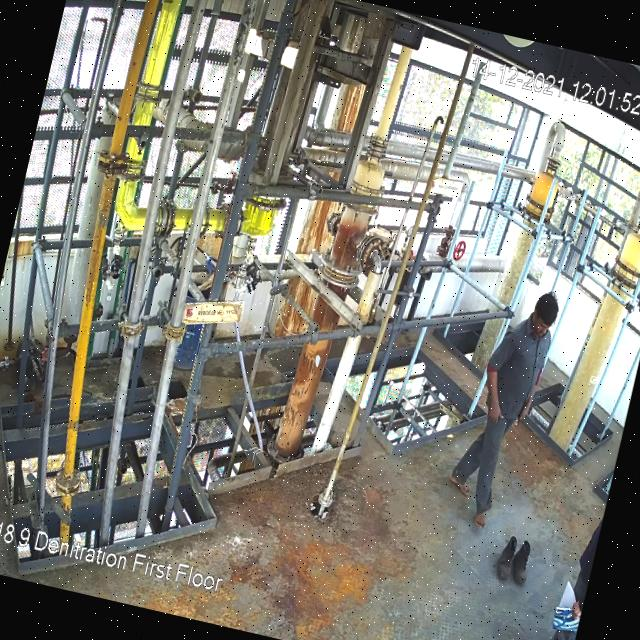boots: (504, 534, 539, 594), (490, 532, 520, 582)
no-boots: (445, 466, 475, 497), (468, 504, 490, 528)
